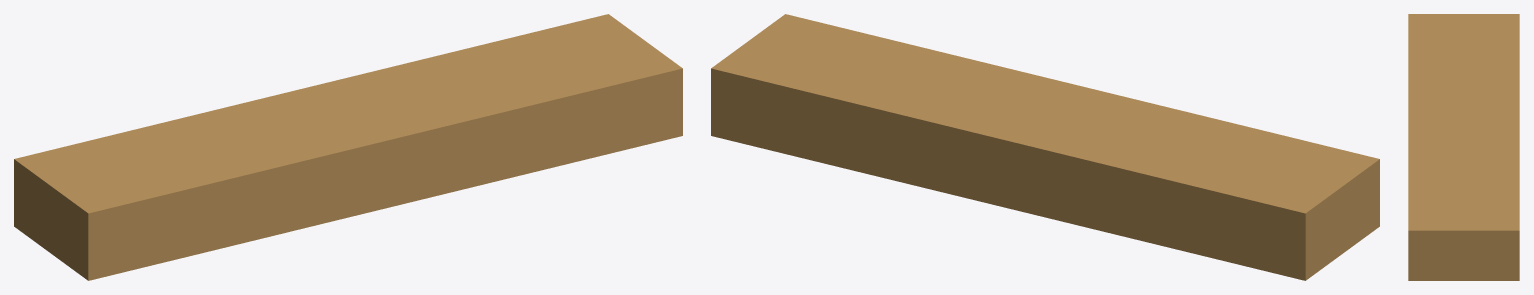
The picture shows the model from 3 angles, left to right: view 1: azimuth 30°, elevation 25°; view 2: azimuth 150°, elevation 25°; view 3: azimuth 270°, elevation 25°; orthographic projection. The views are drawn at different scales.
Visible parts, largest first — view 1: __delivery_mesh_5254; view 2: __delivery_mesh_5254; view 3: __delivery_mesh_5254.
Boxes of the visible parts, left/top/right/bottom form: __delivery_mesh_5254: left=14, top=14, right=682, bottom=280; __delivery_mesh_5254: left=711, top=14, right=1379, bottom=280; __delivery_mesh_5254: left=1408, top=14, right=1519, bottom=280.
Size of the model in its own units: 0.415 by 0.045 by 0.09.
